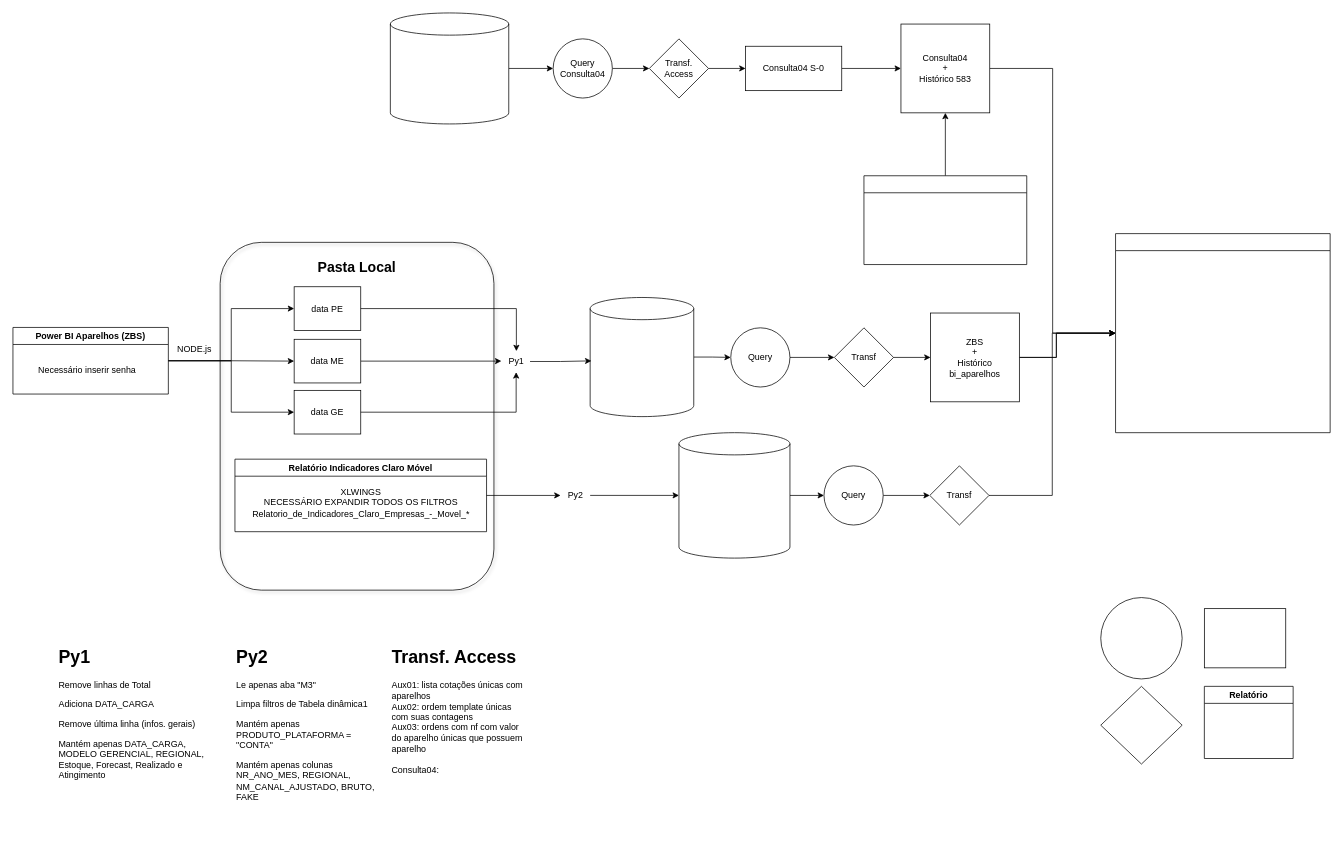
The diagram is 1343 pixels wide and 864 high, and some of its shapes have lost their labels. The centre of each missing label's shape, as x and y in pixels:
"583 Data_carga = d/m/a Extração d+1/m-3/a até d/m/a Canal* = CORPME e NETPME" goes at (x=449, y=68).
"Dash de Equipamentos S-0" goes at (x=1222, y=333).
"Dash de Equipamentos S-1" goes at (x=945, y=220).
"Filtro" goes at (x=1141, y=725).
"Query/Procedure" goes at (x=1141, y=638).
"REPLACE COMPLETO Histórico m3_indicadores" goes at (x=734, y=495).
"REPLACE PARCIAL Histórico aparelhos_bi" goes at (x=641, y=357).
"Tabela" goes at (x=1245, y=638).
